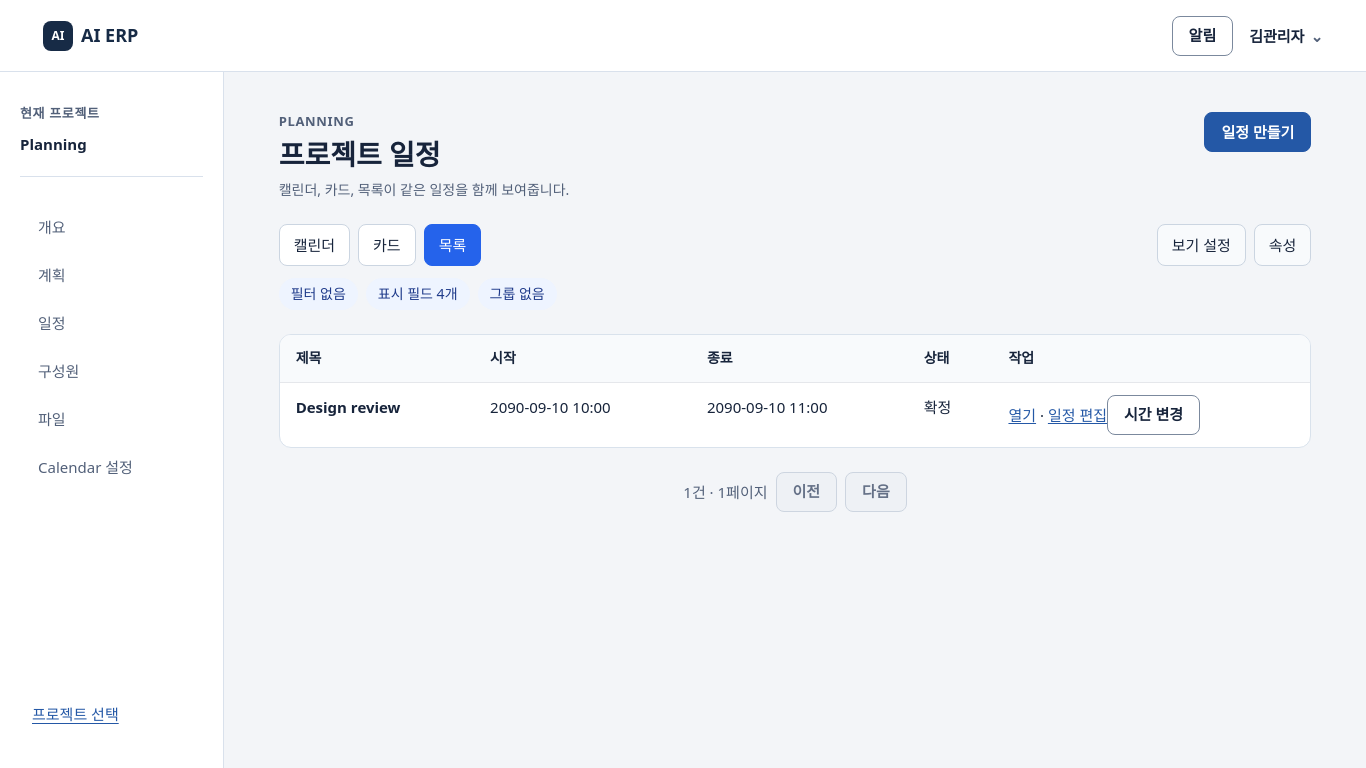
Test case: List uncertain outcome locks writes when the fresh project role loses edit access
This screenshot has width=1366, height=768.
Click the button with aria-label "시간 변경: Design review" at (1154, 415), box [1107,395,1200,435]
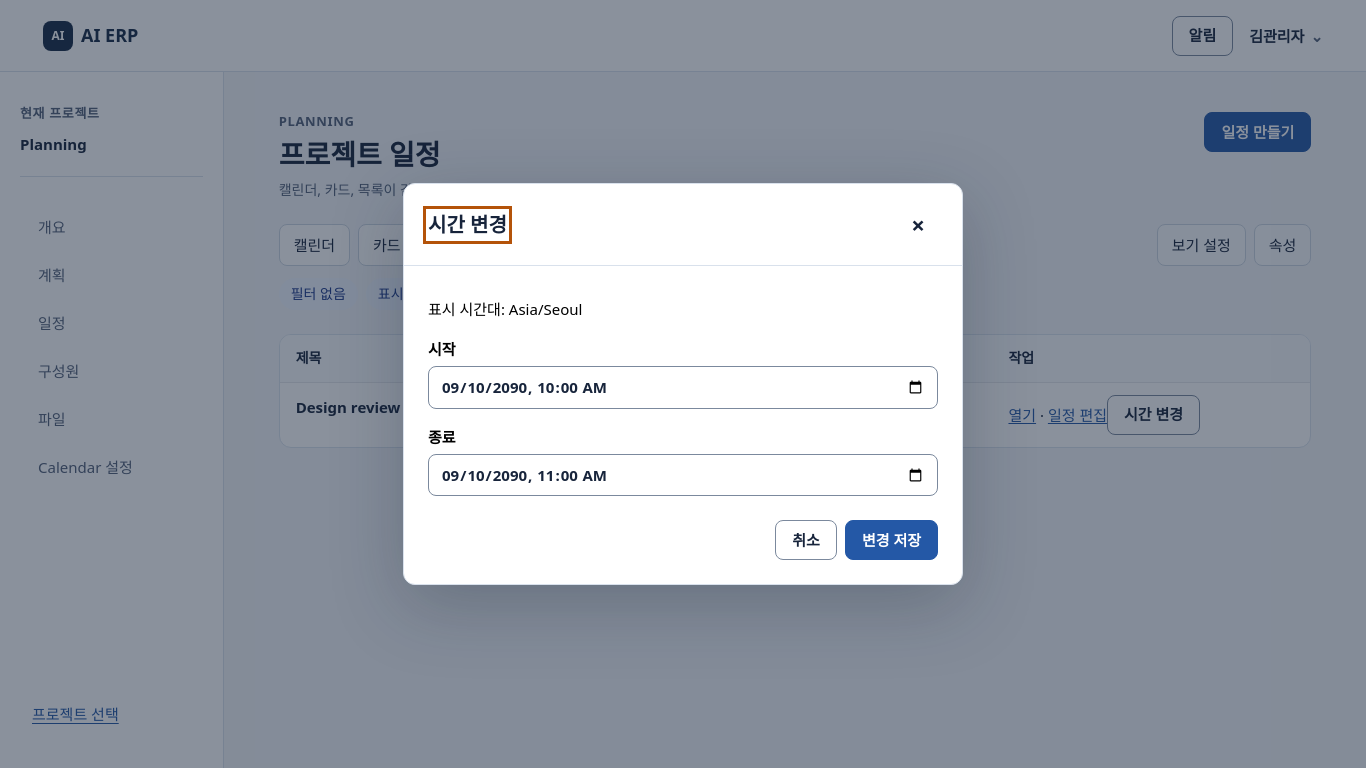
Replace the text in the field labelled "시작" with "2090-09-10T10:30" at (683, 388), box [428,366,938,409]
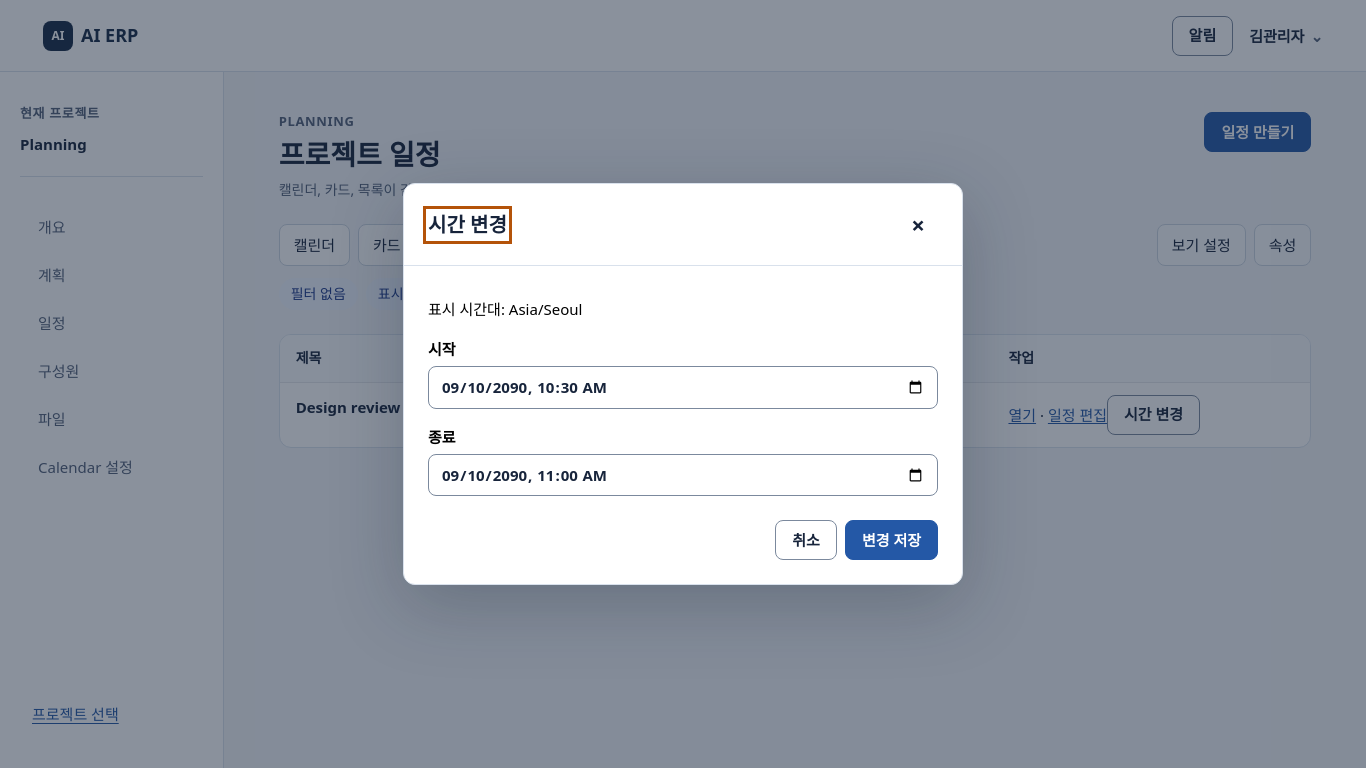
Click the button "변경 저장" at (891, 540), box [845,520,938,560]
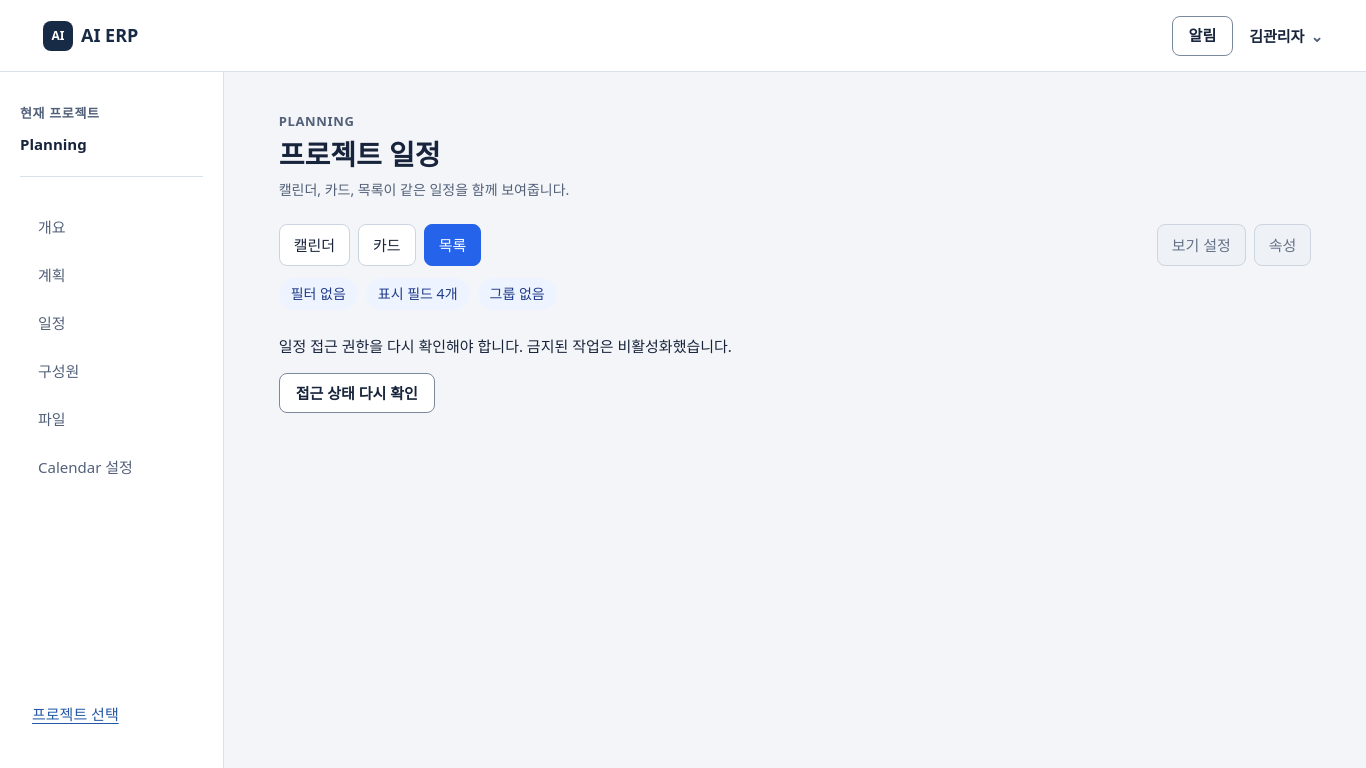
Expected: the text "일정 접근 권한을 다시 확인해야 합니다. 금지된 작업은 비활성화했습니다." is shown, [279,336,732,356]
